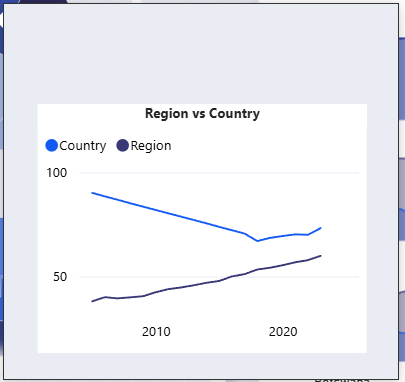

The dashboard page shown, as its layout file describes it:
{"tool":"powerbi","page":{"name":"Country Tooltip","canvas":[315,300],"ordinal":1},"visuals":[{"type":"lineChart","title":"Region vs Country","fields":{"Category":["DimDate.Year"],"Y":["Access to elec (pop %).Access%","Access to elec (pop %).RegionAccess%"]},"box":[27,80,263,199],"z":1000}]}

Visuals, with their boxes in screenshot pixels (x1, y1, x2, y2), scaled from the page's 315x300 canvas onto the 405x382 screenshot:
"Region vs Country" lineChart: bbox=[35, 102, 373, 355]
